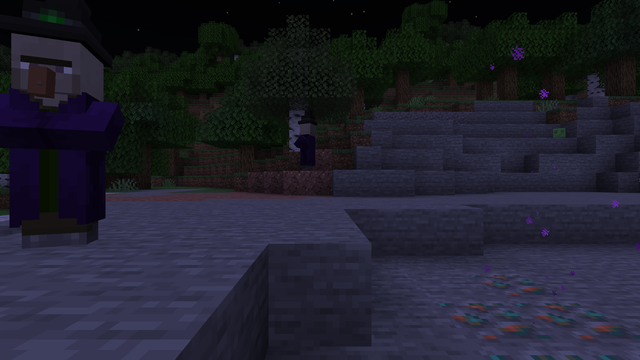slimes: (550, 127, 567, 137)
sorcieres: (10, 24, 117, 251), (299, 121, 314, 170)
